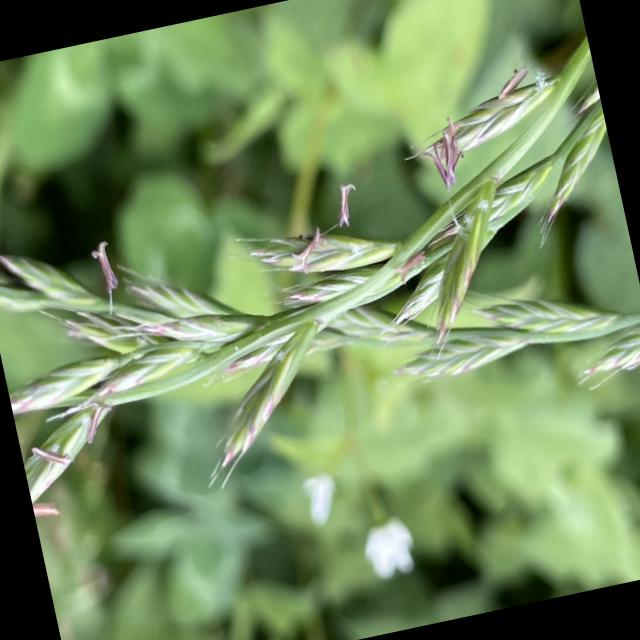Lolium: (0, 26, 640, 530)
